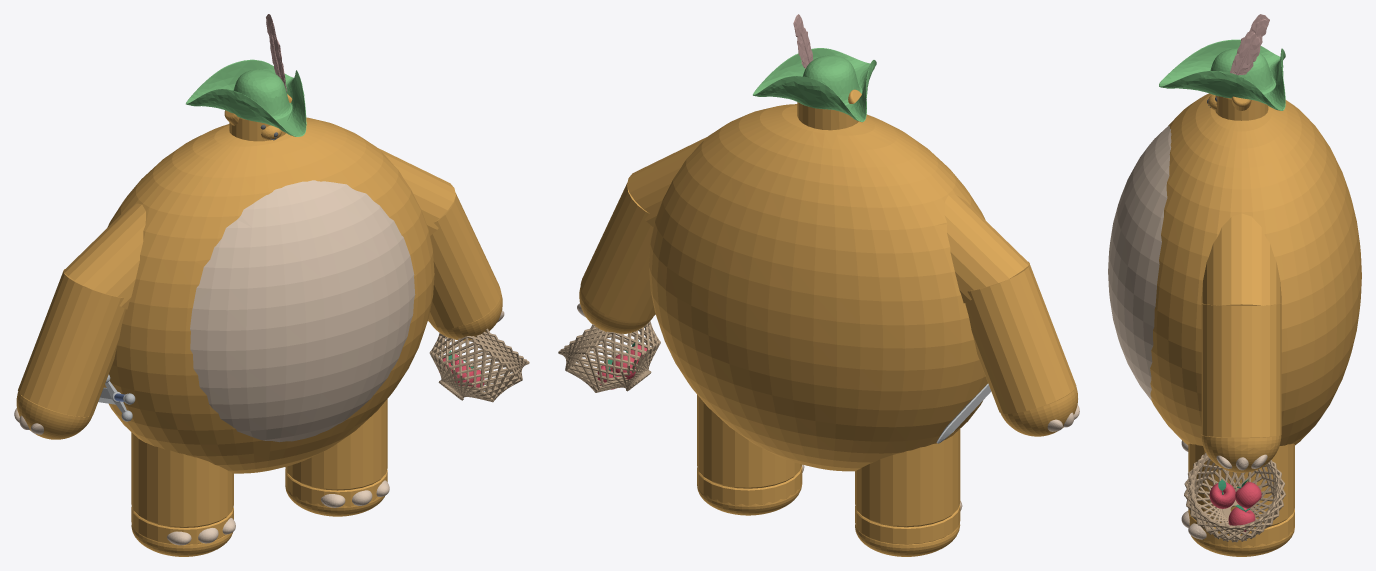
The model's file is forest_pip_1.glb.
3 renders of one model, left to right at view 1: azimuth 30°, elevation 25°; view 2: azimuth 150°, elevation 25°; view 3: azimuth 270°, elevation 25°, orthographic. The views are drawn at different scales.
Parts seen in each view (by area): view 1: Mesh_Mesh_head_geo.001_lambert2SG.001; view 2: Mesh_Mesh_head_geo.001_lambert2SG.001; view 3: Mesh_Mesh_head_geo.001_lambert2SG.001.
Boxes of the visible parts, box(x1,y1,x2,y2) form: Mesh_Mesh_head_geo.001_lambert2SG.001: box(14, 14, 529, 556); Mesh_Mesh_head_geo.001_lambert2SG.001: box(558, 14, 1079, 556); Mesh_Mesh_head_geo.001_lambert2SG.001: box(1108, 14, 1361, 556).
Size of the model in its own units: 22.91 by 22.1 by 10.
